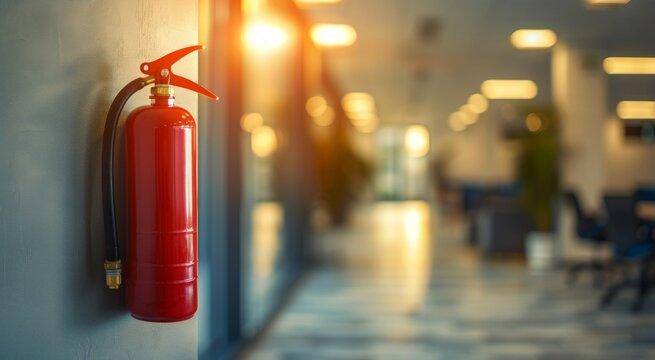wall-mounted: (71, 30, 243, 331)
